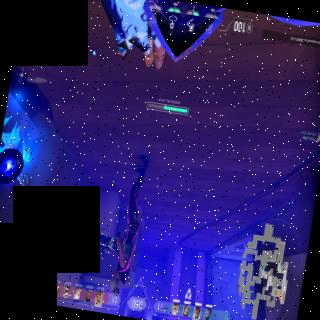ENEMY-BODY: (106, 148, 152, 302)
ENEMY-HEAD: (106, 269, 122, 299)
